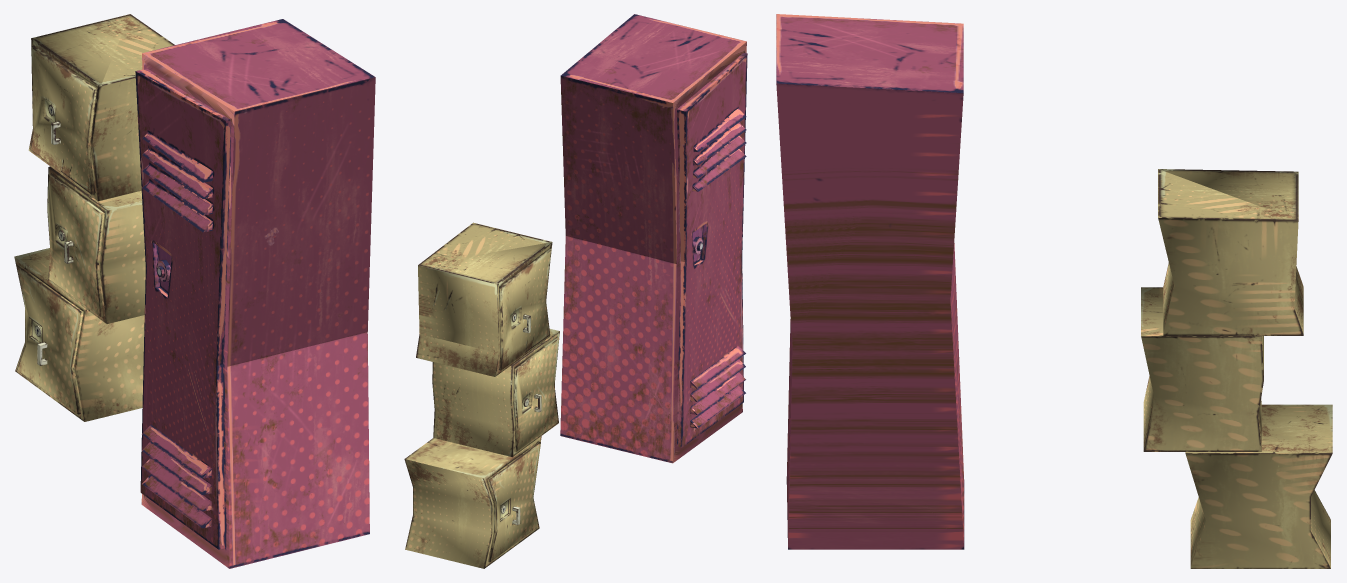
The model's file is LockersB_Rust.glb.
3 renders of one model, left to right at view 1: azimuth 30°, elevation 25°; view 2: azimuth 150°, elevation 25°; view 3: azimuth 270°, elevation 25°, orthographic. The views are drawn at different scales.
Visible parts, largest first — view 1: Cube.001, small locker top door; view 2: Cube.001, small locker top door; view 3: Cube.001, small locker top door.
Boxes of the visible parts, <box> form: Cube.001: <box>135,19,375,568</box>; small locker top door: <box>14,14,174,421</box>; Cube.001: <box>560,14,747,463</box>; small locker top door: <box>404,222,559,568</box>; Cube.001: <box>776,14,964,549</box>; small locker top door: <box>1141,169,1332,568</box>.
Bounding box in the file's own units: 1.43 × 3.82 × 4.02.
Materials: 2 (2 with a texture image).
